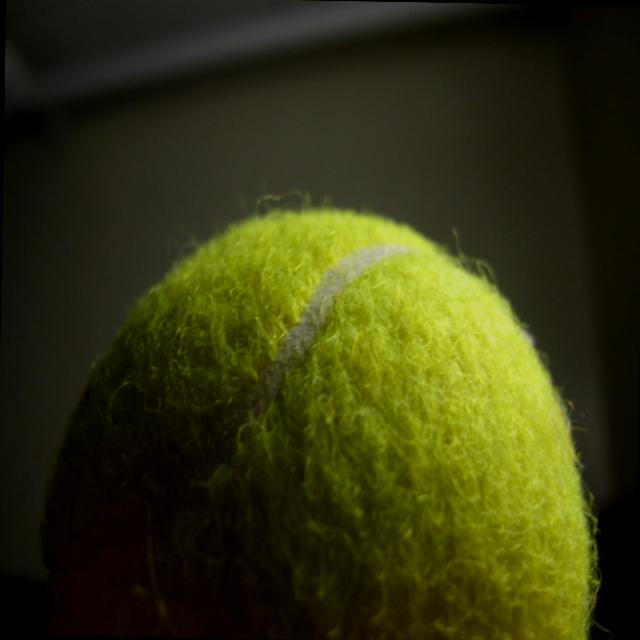Tennis Ball: (33, 185, 620, 640)
